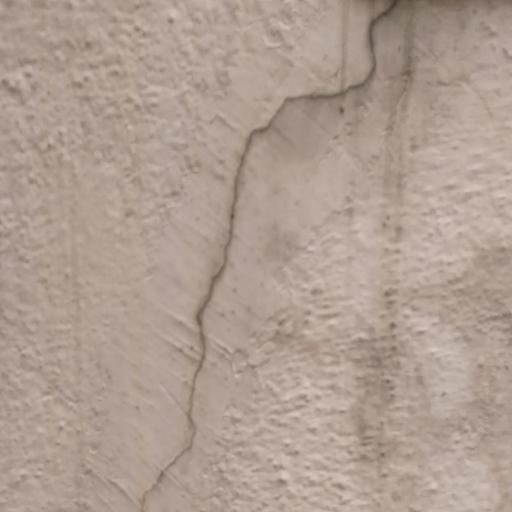minor_crack: (134, 0, 409, 512)
